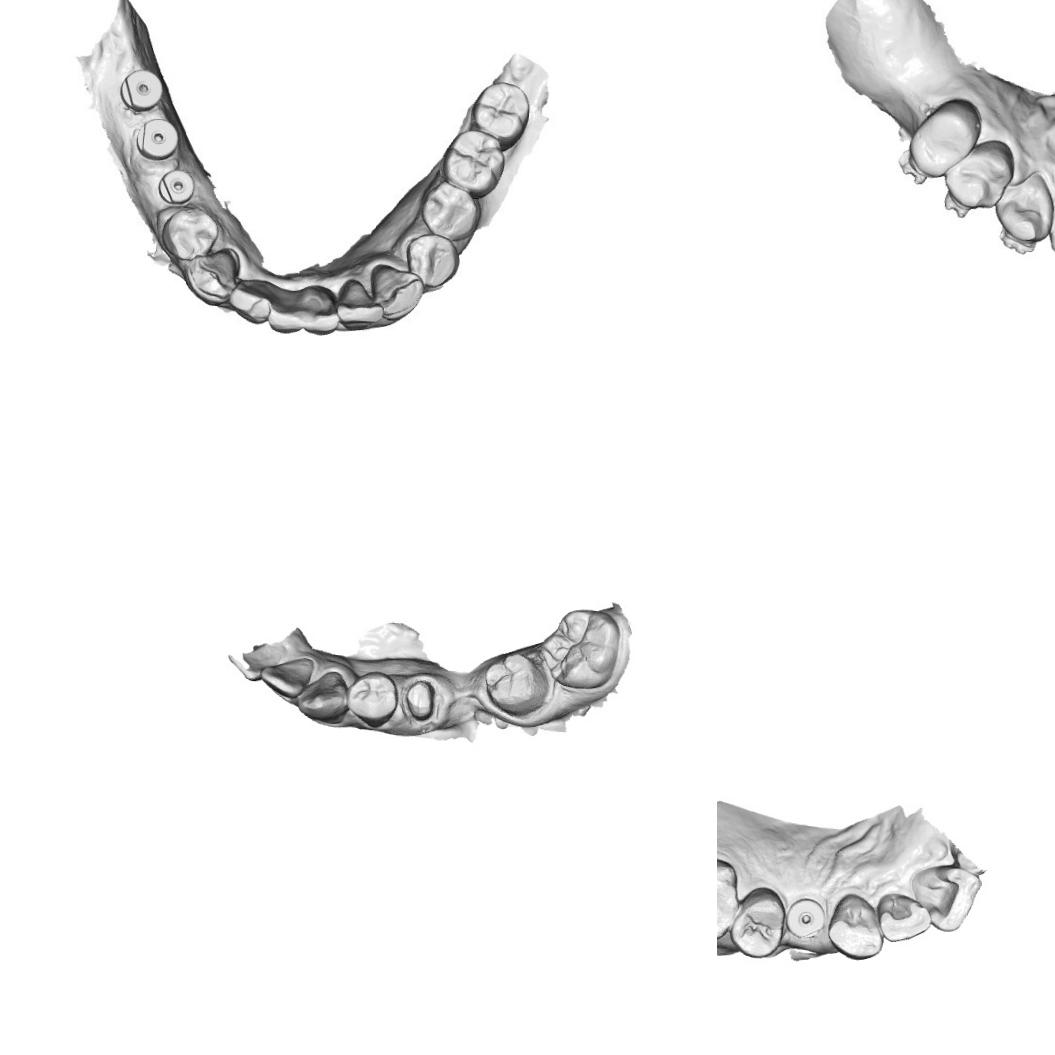canine: (991, 173, 1055, 243), (825, 890, 884, 962), (371, 264, 423, 324), (187, 244, 240, 300), (296, 669, 348, 723)
crown: (404, 678, 436, 721)
implant: (154, 164, 200, 210), (135, 118, 180, 162), (119, 68, 162, 114), (785, 895, 828, 940)
incisor: (907, 862, 985, 935), (876, 890, 933, 945), (226, 642, 286, 684), (258, 656, 314, 700), (341, 277, 381, 324), (232, 276, 272, 320), (271, 282, 302, 328), (306, 284, 336, 330)
molar: (538, 607, 622, 690), (482, 650, 550, 718), (441, 128, 504, 192), (473, 80, 530, 140), (717, 848, 743, 945)
premolar: (906, 98, 982, 180), (728, 883, 790, 961), (950, 149, 1014, 211), (158, 208, 224, 262), (424, 179, 480, 238), (345, 670, 398, 728), (408, 234, 458, 288)
